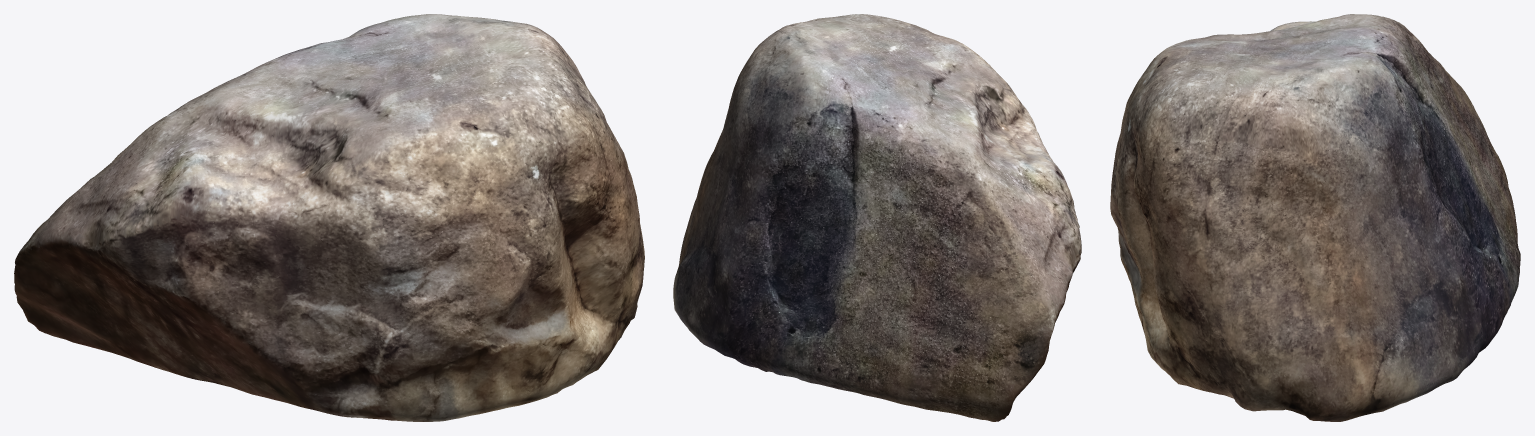
File: rock_sketchfab.fbx
The picture shows the model from 3 angles, left to right: view 1: azimuth 30°, elevation 25°; view 2: azimuth 150°, elevation 25°; view 3: azimuth 270°, elevation 25°; orthographic projection. The views are drawn at different scales.
Parts seen in each view (by area): view 1: LoRes_Retopo; view 2: LoRes_Retopo; view 3: LoRes_Retopo.
Boxes of the visible parts, bbox=[...] form: LoRes_Retopo: bbox=[14, 14, 644, 421]; LoRes_Retopo: bbox=[673, 14, 1081, 421]; LoRes_Retopo: bbox=[1110, 14, 1520, 421].
Size of the model in its own units: 109 by 65.86 by 80.72.
Materials: 1 (1 with a texture image).
